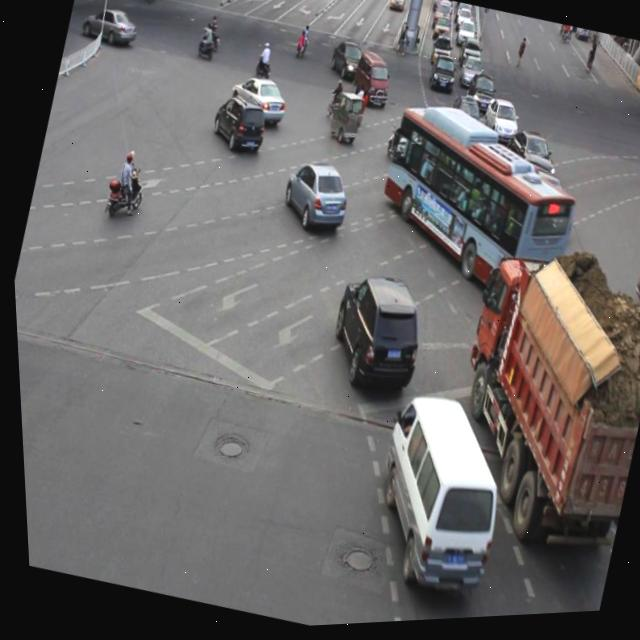bus: (420, 249, 640, 561)
car: (315, 266, 431, 402), (273, 156, 355, 240), (510, 179, 585, 261), (416, 122, 486, 192), (205, 89, 271, 161), (223, 70, 291, 132), (497, 128, 560, 190), (621, 266, 640, 335)
truck: (347, 387, 519, 607)
van: (356, 98, 591, 319)
